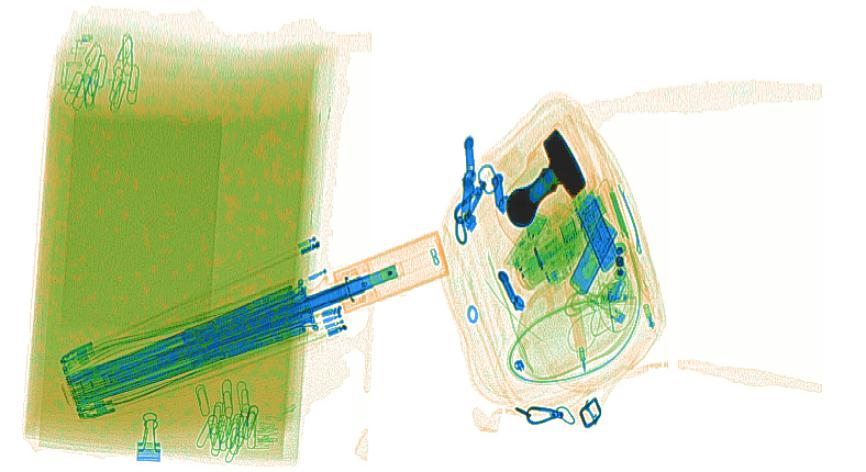seal: (492, 113, 593, 248)
